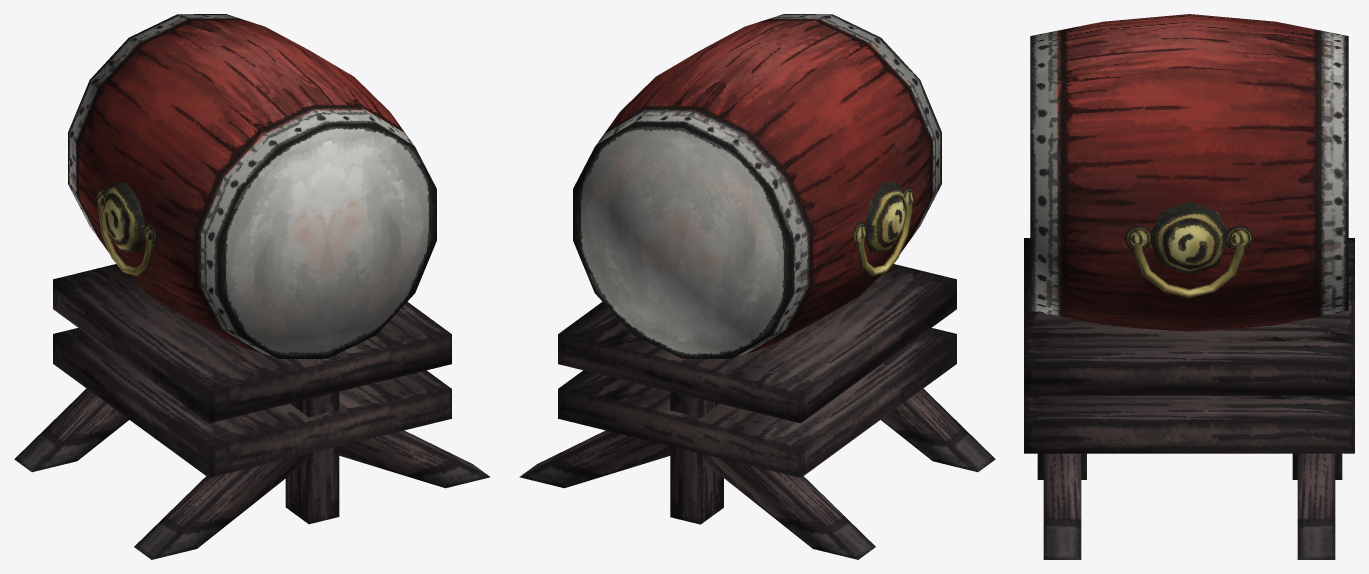
The model's file is PRP_Drum.FBX.
The picture shows the model from 3 angles, left to right: view 1: azimuth 30°, elevation 25°; view 2: azimuth 150°, elevation 25°; view 3: azimuth 270°, elevation 25°; orthographic projection. The views are drawn at different scales.
Visible parts, largest first — view 1: PRP_Drum; view 2: PRP_Drum; view 3: PRP_Drum.
Part boxes in pixels (<box>): PRP_Drum: <box>14,14,490,559</box>; PRP_Drum: <box>519,14,995,559</box>; PRP_Drum: <box>1024,14,1354,559</box>.
Size of the model in its own units: 267 by 314 by 213.
